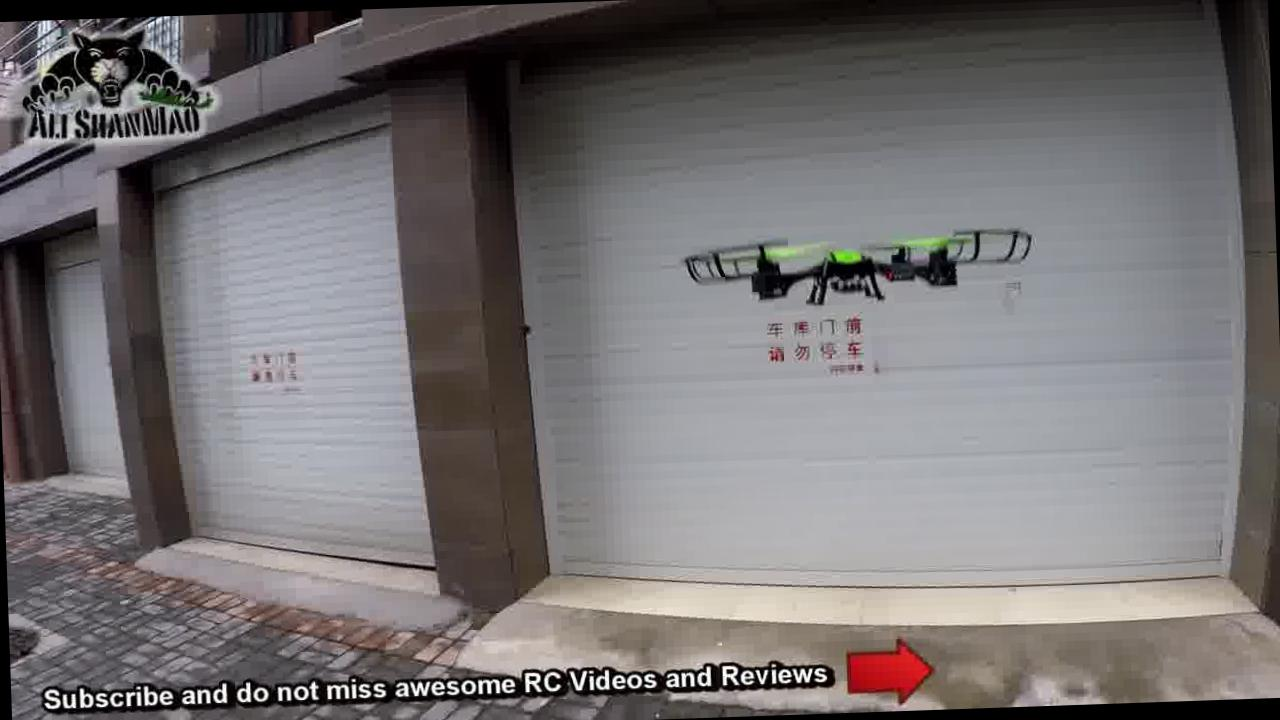drone: (687, 206, 1028, 308)
